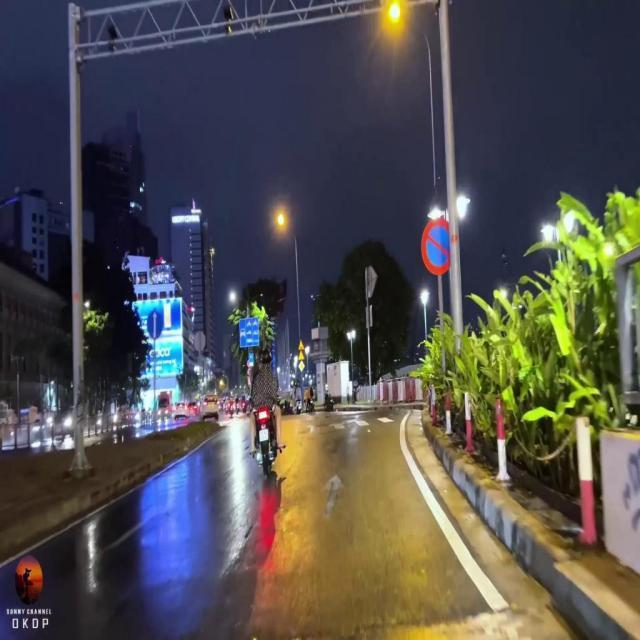131a-cam-do-xe: (420, 218, 454, 276)
407a-duong-mot-chieu: (148, 310, 164, 340)
